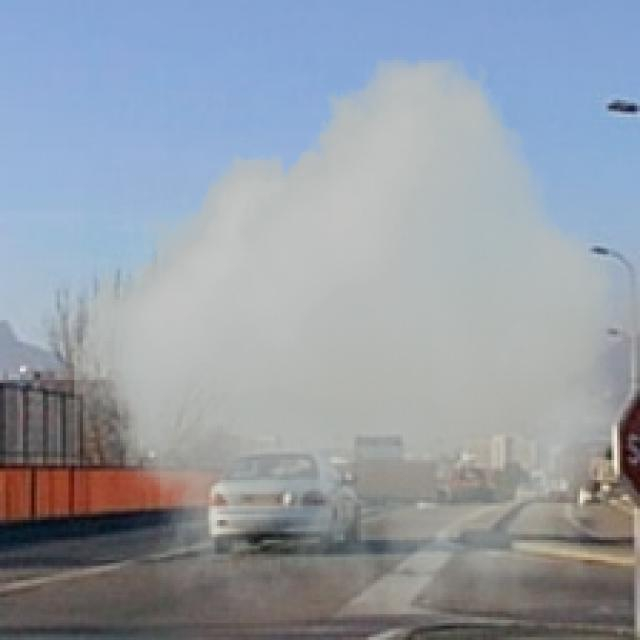Smoke: (74, 57, 623, 614)
